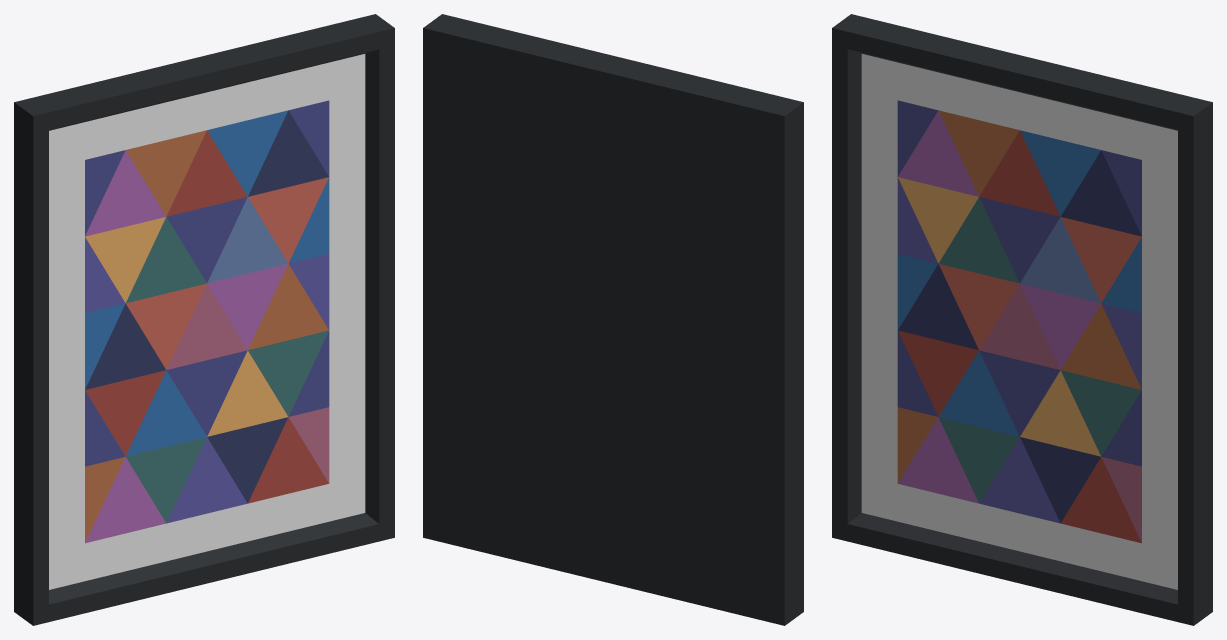
Rendered from SM_Prop_Art_02.fbx.
3 views of the same model, side by side, from view 1: azimuth 30°, elevation 25°; view 2: azimuth 150°, elevation 25°; view 3: azimuth 330°, elevation 25° (orthographic).
Parts seen in each view (by area): view 1: SM_Prop_Art_02; view 2: SM_Prop_Art_02; view 3: SM_Prop_Art_02.
Part boxes in pixels (x1,y1,x2,y2): SM_Prop_Art_02: (14, 14, 394, 625); SM_Prop_Art_02: (423, 14, 803, 625); SM_Prop_Art_02: (832, 14, 1212, 625).
Size of the model in its own units: 59.46 by 80.09 by 5.45.
